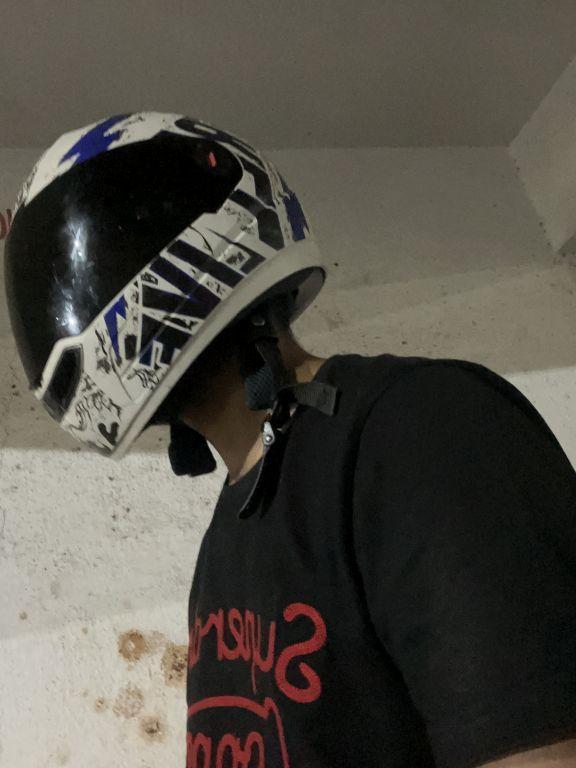helmet: (0, 82, 348, 466)
